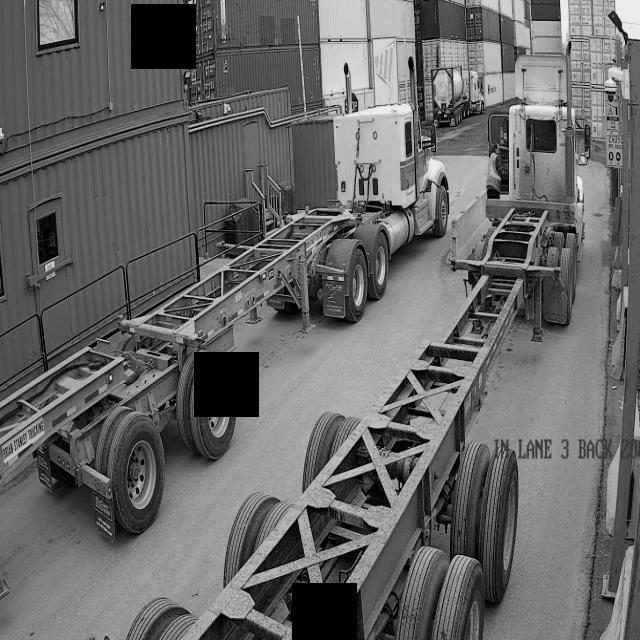truck_without_container: (126, 53, 584, 640), (0, 102, 449, 540)
